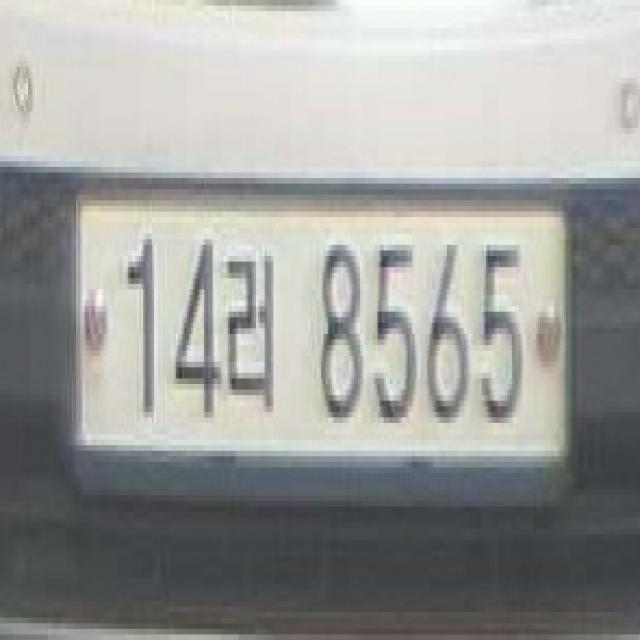1: (124, 228, 165, 434)
4: (172, 228, 226, 434)
5: (475, 233, 529, 440), (371, 233, 423, 440)
6: (423, 233, 475, 440)
8: (317, 228, 369, 440)
leo: (224, 239, 284, 434)
license_plate: (67, 161, 575, 512)
